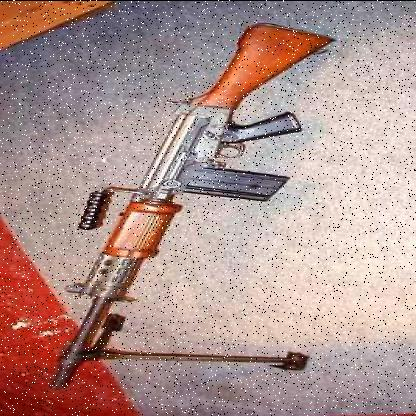rifle: (17, 19, 357, 390)
